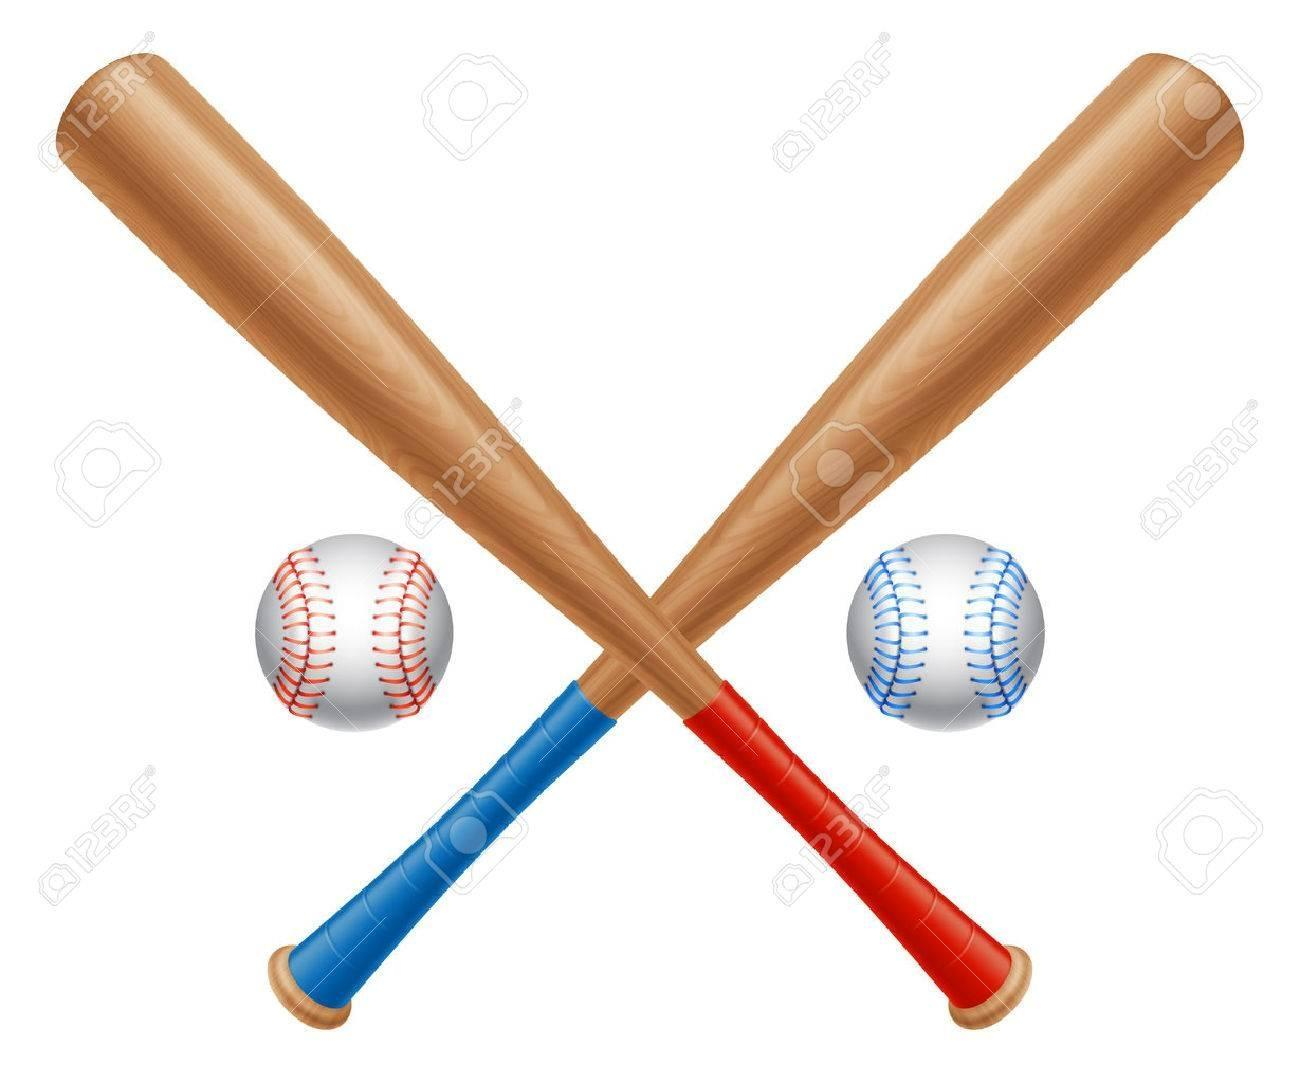Baseball-Bat: (273, 51, 1259, 1045), (52, 40, 1035, 1030)
